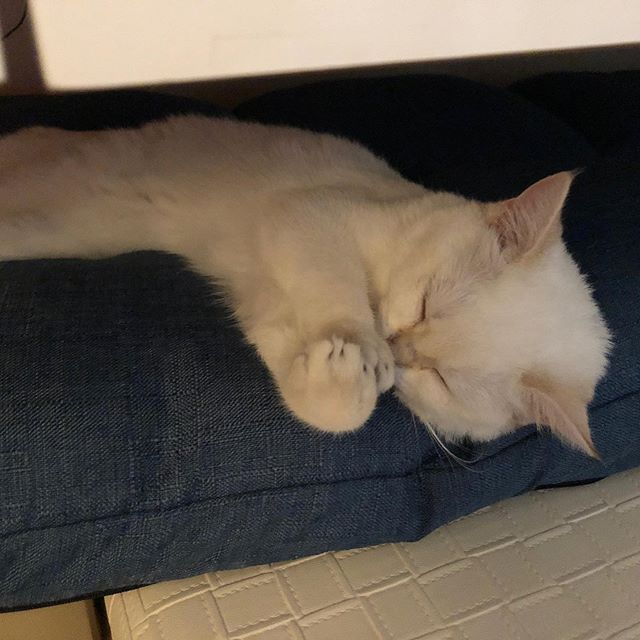cat: (365, 174, 613, 463)
